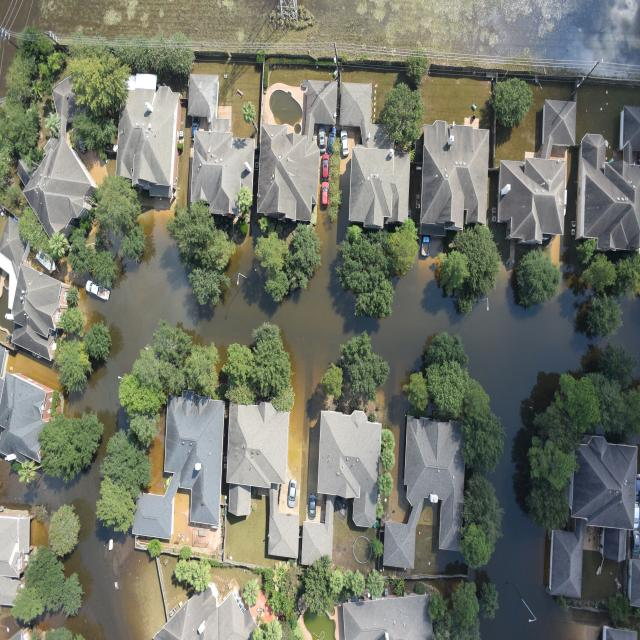fire: (65, 185, 608, 638), (40, 462, 164, 640), (0, 466, 39, 502), (617, 293, 636, 351)
